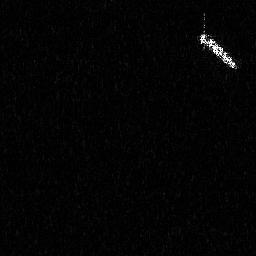ship: (195, 12, 239, 71)
